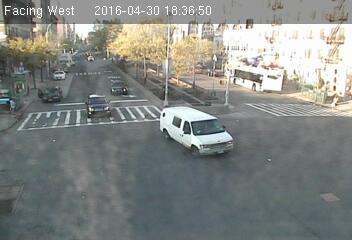neg: (183, 117, 199, 139), (107, 84, 115, 95)
pos: (327, 91, 343, 112)
